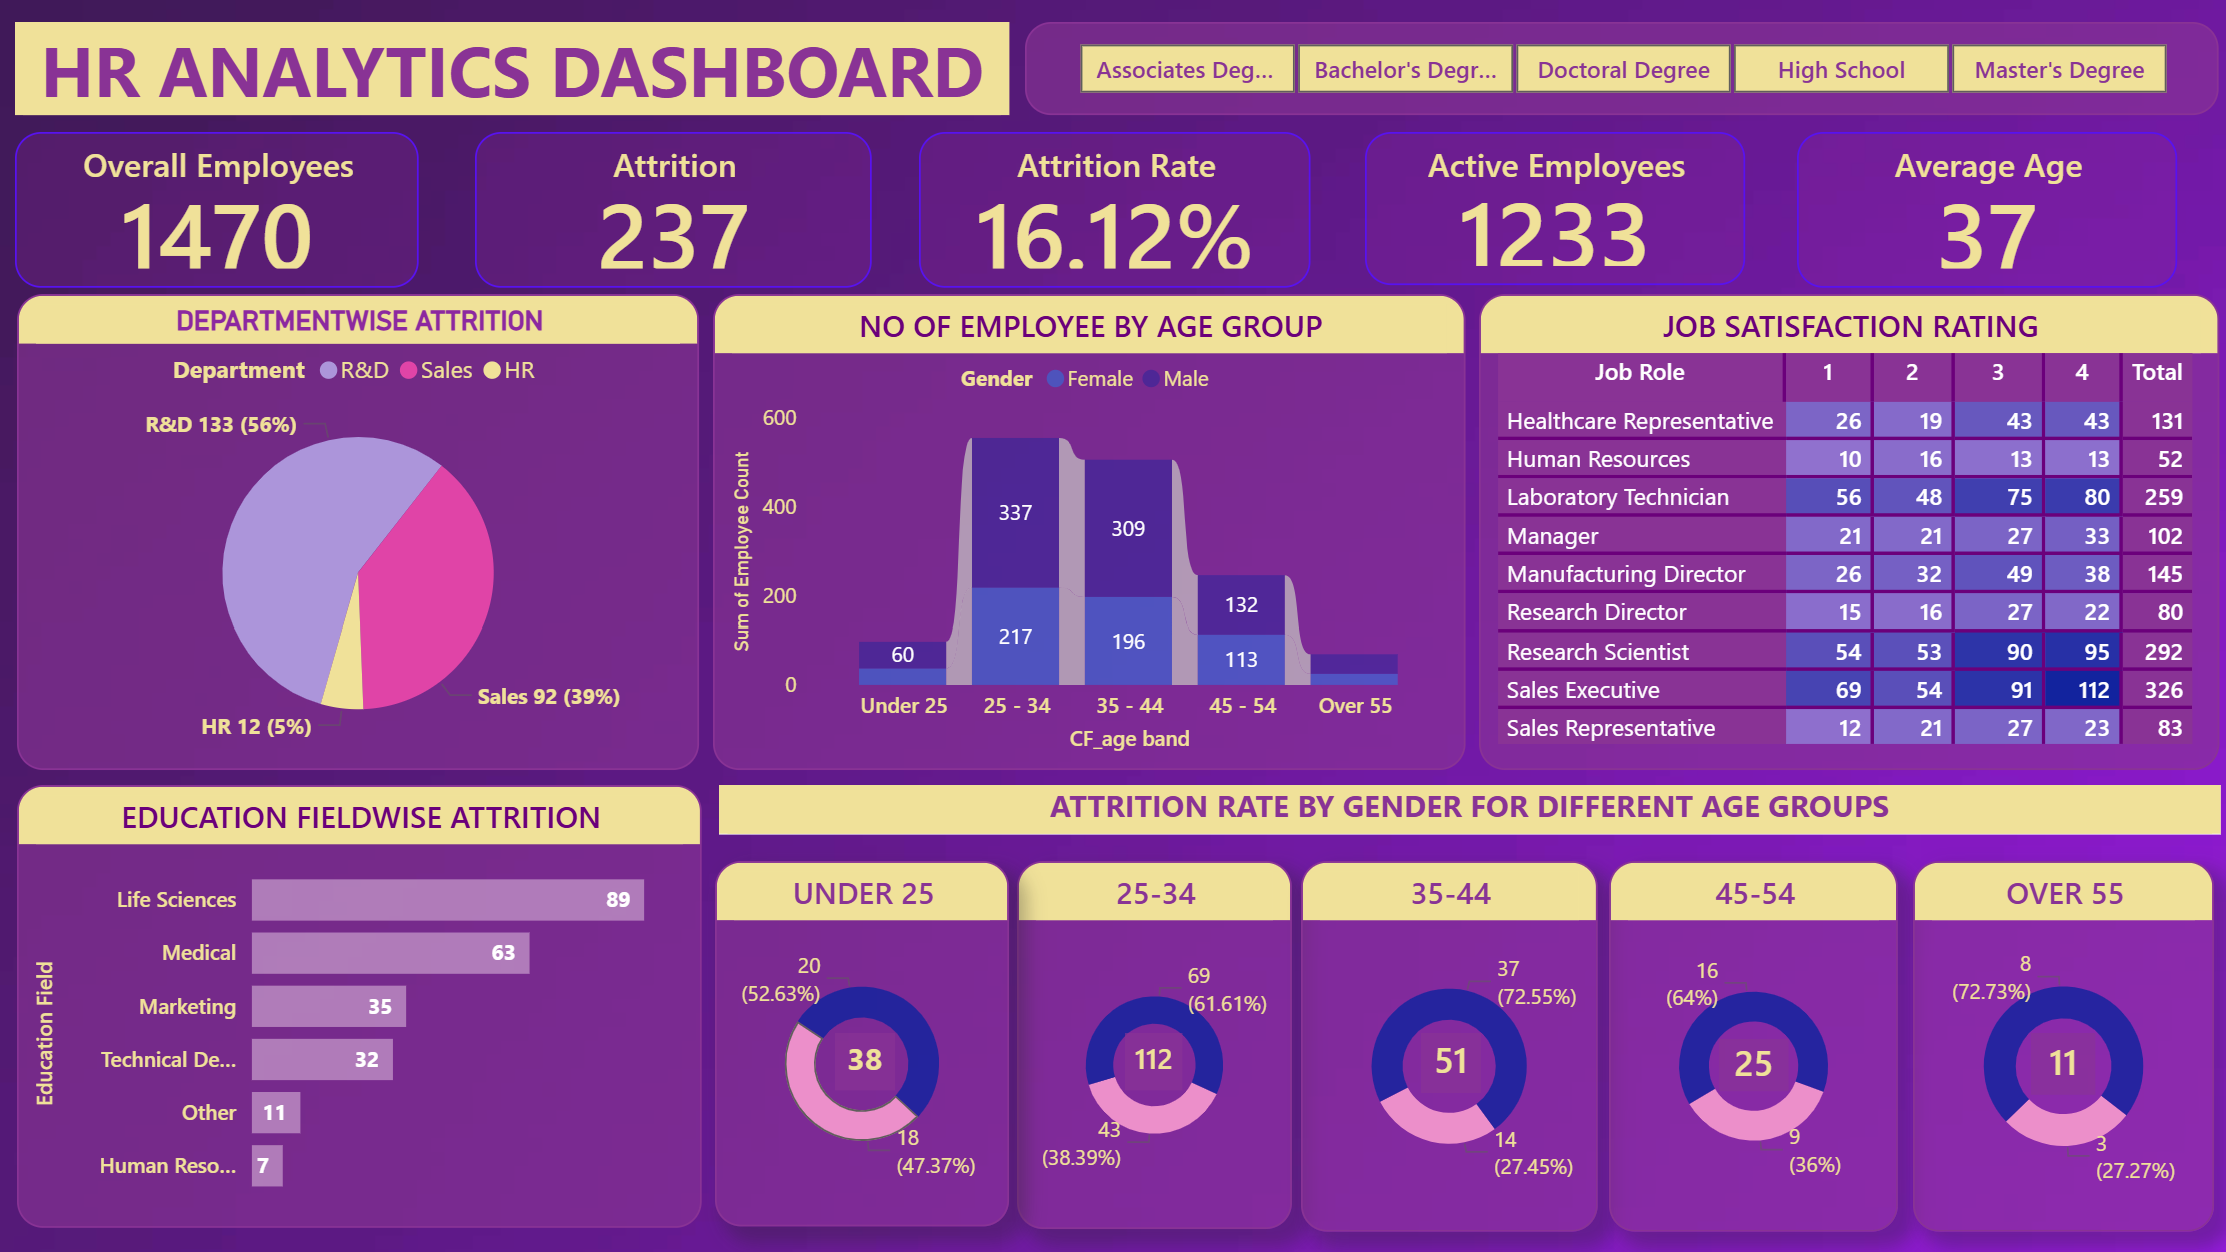

The dashboard page shown, as its layout file describes it:
{"tool":"powerbi","page":{"name":"Page 1","canvas":[1280,720],"ordinal":0},"visuals":[{"type":"card","title":"Overall Employees","fields":{"Values":["Sum(HR data.Employee Count)"]},"box":[9.6,75.5,232.1,89.3],"z":0},{"type":"card","title":"Attrition","fields":{"Values":["Sum(HR data.Attrition Count)"]},"box":[273.3,75.5,228,89.3],"z":1000},{"type":"card","title":"Attrition Rate","fields":{"Values":["HR data.attrition Rate"]},"box":[528.8,75.5,225.2,89.3],"z":2000},{"type":"card","title":"Active Employees","fields":{"Values":["HR data.Active Employees"]},"box":[785.6,75.5,218.4,87.9],"z":3000},{"type":"card","title":"Average Age","fields":{"Values":["Avg(HR data.Age)"]},"box":[1032.8,75.5,218.4,89.3],"z":4000},{"type":"pieChart","title":"DEPARTMENTWISE ATTRITION","fields":{"Y":["Sum(HR data.Attrition Count)"],"Category":["HR data.Department"]},"box":[10.1,169.2,392,273.1],"z":5000},{"type":"columnChart","title":"NO OF EMPLOYEE BY AGE GROUP","fields":{"Category":["HR data.CF_age band"],"Y":["Sum(HR data.Employee Count)"],"Series":["HR data.Gender"]},"box":[410.5,169.2,432.3,273.1],"z":6000},{"type":"pivotTable","title":"JOB SATISFACTION RATING","fields":{"Rows":["HR data.Job Role"],"Columns":["HR data.Job Satisfaction"],"Values":["Sum(HR data.Employee Count)"]},"box":[851.1,169.2,425.5,273.1],"z":7000},{"type":"barChart","title":"EDUCATION FIELDWISE ATTRITION","fields":{"Category":["HR data.Education Field"],"Y":["Sum(HR data.Attrition Count)"]},"box":[10.1,450.7,393.7,254.7],"z":8000},{"type":"textbox","title":"ATTRITION RATE BY GENDER FOR DIFFERENT AGE GROUPS","box":[413.8,450.7,862.8,28.5],"z":9000},{"type":"donutChart","title":"25-34","fields":{"Y":["Sum(HR data.Attrition Count)"],"Category":["HR data.Gender"],"Series":["HR data.CF_age band"]},"box":[585.1,494.4,157.9,211.5],"z":10000},{"type":"donutChart","title":"35-44","fields":{"Y":["Sum(HR data.Attrition Count)"],"Category":["HR data.Gender"],"Series":["HR data.CF_age band"]},"box":[748.5,494.4,170.3,212.9],"z":11000},{"type":"donutChart","title":"45-54","fields":{"Y":["Sum(HR data.Attrition Count)"],"Category":["HR data.Gender"],"Series":["HR data.CF_age band"]},"box":[925.7,494.4,166.2,212.9],"z":12000},{"type":"donutChart","title":"OVER 55","fields":{"Y":["Sum(HR data.Attrition Count)"],"Category":["HR data.Gender"],"Series":["HR data.CF_age band"]},"box":[1100.1,494.4,173,212.9],"z":13000},{"type":"donutChart","title":"UNDER 25","fields":{"Y":["Sum(HR data.Attrition Count)"],"Category":["HR data.Gender"],"Series":["HR data.CF_age band"]},"box":[412,494.4,168.9,210.1],"z":14000},{"type":"card","fields":{"Values":["Sum(HR data.Attrition Count)"]},"box":[480.7,593.3,34.3,33],"z":15000},{"type":"card","fields":{"Values":["Sum(HR data.Attrition Count)"]},"box":[646.9,593.3,33,33],"z":16000},{"type":"card","fields":{"Values":["Sum(HR data.Attrition Count)"]},"box":[817.2,593.3,34.3,34.3],"z":17000},{"type":"card","fields":{"Values":["Sum(HR data.Attrition Count)"]},"box":[988.8,596.1,39.8,30.2],"z":18000},{"type":"card","fields":{"Values":["Sum(HR data.Attrition Count)"]},"box":[1167.4,593.3,37.1,35.7],"z":19000},{"type":"textbox","title":"HR ANALYTICS DASHBOARD","box":[9.6,12.4,571.3,53.6],"z":20000},{"type":"slicer","fields":{"Values":["HR data.Education"]},"box":[589.7,12.1,686.2,53.4],"z":21000}]}

Visuals, with their boxes in screenshot pixels (x1, y1, x2, y2), scaled from the page's 1280x720 canvas onto the 2226x1252 screenshot:
"Overall Employees" card: <bbox>17, 131, 420, 287</bbox>
"Attrition" card: <bbox>475, 131, 872, 287</bbox>
"Attrition Rate" card: <bbox>920, 131, 1311, 287</bbox>
"Active Employees" card: <bbox>1366, 131, 1746, 284</bbox>
"Average Age" card: <bbox>1796, 131, 2176, 287</bbox>
"DEPARTMENTWISE ATTRITION" pieChart: <bbox>18, 294, 699, 769</bbox>
"NO OF EMPLOYEE BY AGE GROUP" columnChart: <bbox>714, 294, 1466, 769</bbox>
"JOB SATISFACTION RATING" pivotTable: <bbox>1480, 294, 2220, 769</bbox>
"EDUCATION FIELDWISE ATTRITION" barChart: <bbox>18, 784, 702, 1227</bbox>
"ATTRITION RATE BY GENDER FOR DIFFERENT AGE GROUPS" textbox: <bbox>720, 784, 2220, 833</bbox>
"25-34" donutChart: <bbox>1018, 860, 1292, 1227</bbox>
"35-44" donutChart: <bbox>1302, 860, 1598, 1230</bbox>
"45-54" donutChart: <bbox>1610, 860, 1899, 1230</bbox>
"OVER 55" donutChart: <bbox>1913, 860, 2214, 1230</bbox>
"UNDER 25" donutChart: <bbox>716, 860, 1010, 1225</bbox>
card - Sum(HR data.Attrition Count): <bbox>836, 1032, 896, 1089</bbox>
card - Sum(HR data.Attrition Count): <bbox>1125, 1032, 1182, 1089</bbox>
card - Sum(HR data.Attrition Count): <bbox>1421, 1032, 1481, 1091</bbox>
card - Sum(HR data.Attrition Count): <bbox>1720, 1037, 1789, 1089</bbox>
card - Sum(HR data.Attrition Count): <bbox>2030, 1032, 2095, 1094</bbox>
"HR ANALYTICS DASHBOARD" textbox: <bbox>17, 22, 1010, 115</bbox>
slicer - HR data.Education: <bbox>1026, 21, 2219, 114</bbox>
